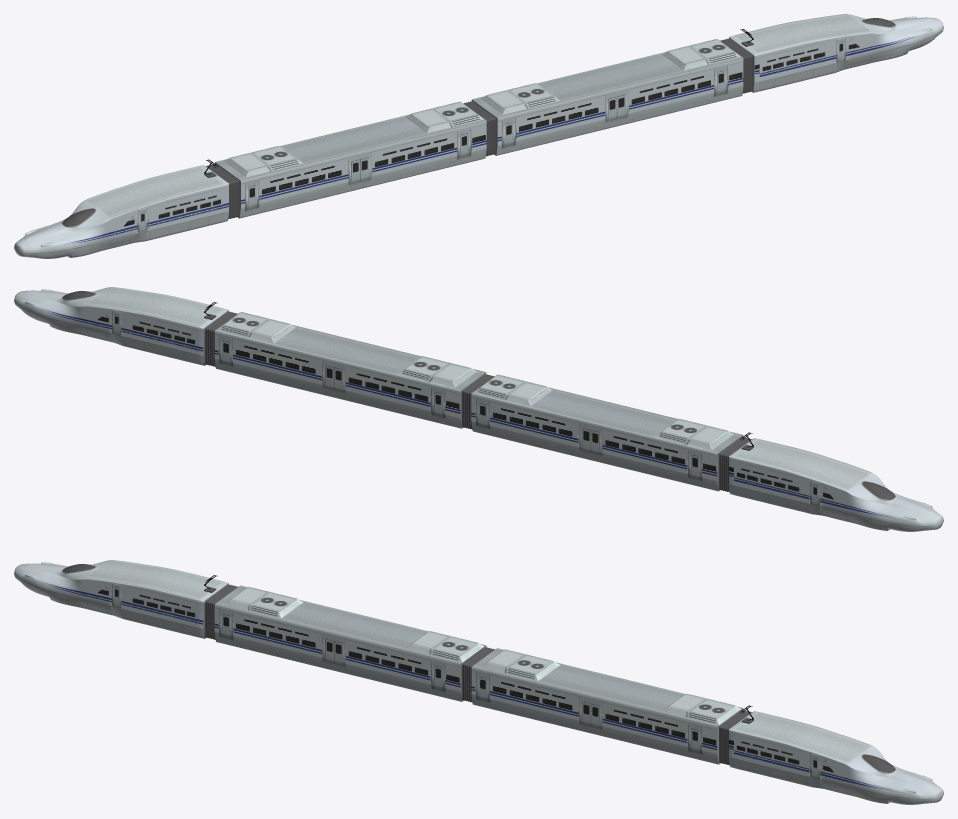
The model's file is bullet-train.glb.
The picture shows the model from 3 angles, top to bottom: view 1: azimuth 30°, elevation 25°; view 2: azimuth 150°, elevation 25°; view 3: azimuth 330°, elevation 25°; orthographic projection.
Visible parts, largest first — view 1: polySurface7 (×2), polySurface15 (×2), pCube6 (×2), pCube7 (×2), loftedSurface7 (×2), loftedSurface8; view 2: polySurface7 (×2), polySurface15 (×2), pCube6 (×2), pCube7 (×2), loftedSurface7 (×2), loftedSurface8; view 3: polySurface7 (×2), polySurface15 (×2), pCube6 (×2), pCube7 (×2), loftedSurface7 (×2), loftedSurface8.
Part boxes in pixels (x1=…): polySurface7 (×2): x1=215, y1=39, x2=743, y2=218; polySurface15 (×2): x1=14, y1=14, x2=943, y2=258; pCube6 (×2): x1=224, y1=83, x2=559, y2=177; pCube7 (×2): x1=405, y1=39, x2=740, y2=132; loftedSurface7 (×2): x1=205, y1=101, x2=496, y2=219; loftedSurface8: x1=720, y1=38, x2=753, y2=93; polySurface7 (×2): x1=214, y1=312, x2=743, y2=491; polySurface15 (×2): x1=14, y1=287, x2=943, y2=531; pCube6 (×2): x1=398, y1=356, x2=733, y2=450; pCube7 (×2): x1=217, y1=312, x2=552, y2=405; loftedSurface7 (×2): x1=461, y1=374, x2=752, y2=492; loftedSurface8: x1=204, y1=311, x2=237, y2=366; polySurface7 (×2): x1=214, y1=585, x2=743, y2=764; polySurface15 (×2): x1=14, y1=560, x2=943, y2=804; pCube6 (×2): x1=224, y1=586, x2=559, y2=680; pCube7 (×2): x1=405, y1=631, x2=740, y2=724; loftedSurface7 (×2): x1=204, y1=584, x2=494, y2=702; loftedSurface8: x1=719, y1=709, x2=752, y2=765.
Size of the model in its own units: 75.48 by 4.14 by 3.85.
9 materials, 3 textured.
